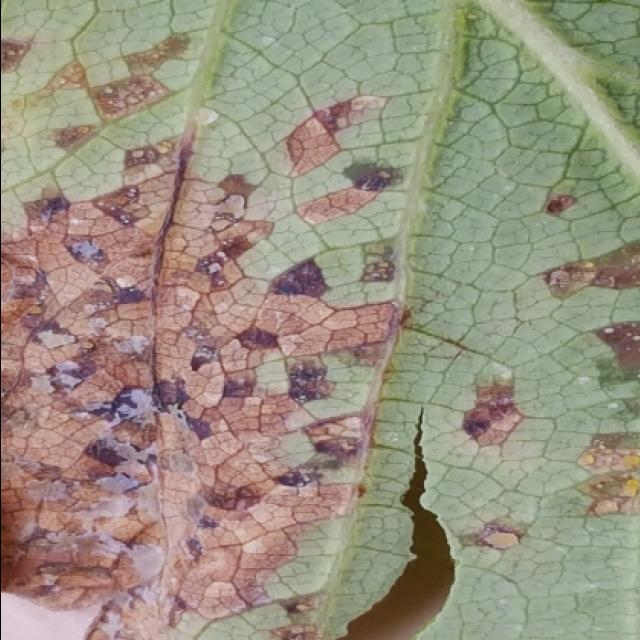Angular Leafspot: (2, 23, 640, 640)
